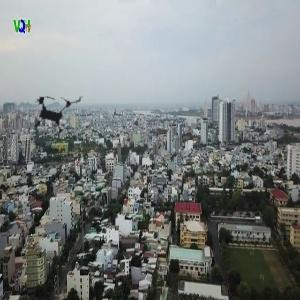drone: (4, 68, 104, 168)
